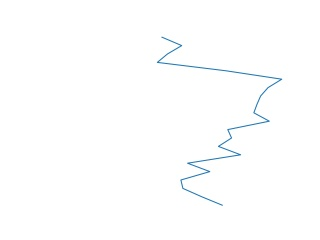floodPlain: (156, 35, 286, 208)
